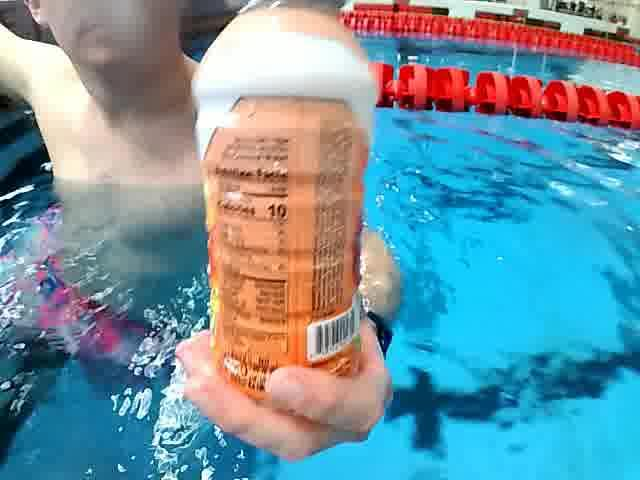Bottle: (199, 0, 381, 401)
